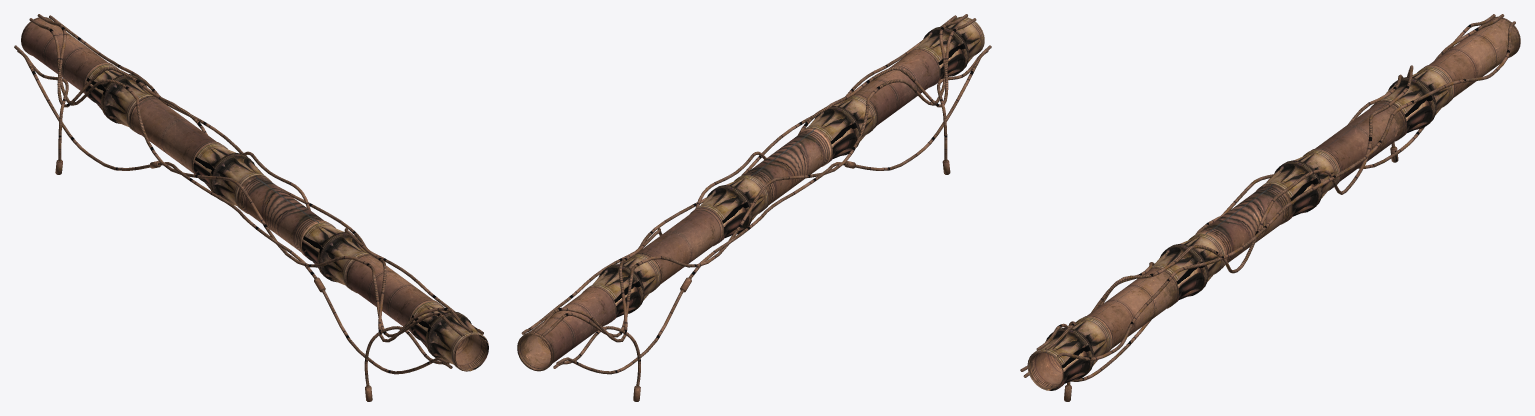
File: tube_beeween_rocks.DAE
3 renders of one model, left to right at view 1: azimuth 30°, elevation 25°; view 2: azimuth 150°, elevation 25°; view 3: azimuth 330°, elevation 25°, orthographic. The views are drawn at different scales.
Parts seen in each view (by area): view 1: Line03, Section_short03, Section_long_A, Section_long_B, Section_long_C01, Section_long_C, Section_short02, Section_short01, Section_short; view 2: Line03, Section_long_C, Section_long_A, Section_long_B, Section_long_C01, Section_short01, Section_short02, Section_short, Section_short03; view 3: Line03, Section_short03, Section_long_C, Section_long_C01, Section_long_A, Section_long_B, Section_short01, Section_short, Section_short02.
Part boxes in pixels (x1,y1,x2,y2): Line03: (14,14,483,401); Section_short03: (410,301,488,371); Section_long_A: (237,175,328,256); Section_long_B: (129,96,220,174); Section_long_C01: (346,254,438,333); Section_long_C: (21,17,112,97); Section_short02: (302,222,369,290); Section_short01: (193,143,268,210); Section_short: (85,64,153,132); Line03: (521,14,991,401); Section_long_C: (517,286,616,371); Section_long_A: (741,128,832,208); Section_long_B: (636,207,723,287); Section_long_C01: (853,48,940,127); Section_short01: (695,175,768,243); Section_short02: (802,96,876,163); Section_short: (587,254,659,322); Section_short03: (913,16,984,85); Line03: (1020,14,1515,401); Section_short03: (1027,317,1110,390); Section_long_C: (1423,16,1520,100); Section_long_C01: (1083,267,1178,351); Section_long_A: (1195,183,1292,268); Section_long_B: (1311,100,1406,184); Section_short01: (1262,150,1338,222); Section_short: (1374,66,1452,137); Section_short02: (1152,233,1224,303).
Bounding box in the file's own units: 148 × 1511 × 217.
3 materials, 3 textured.
